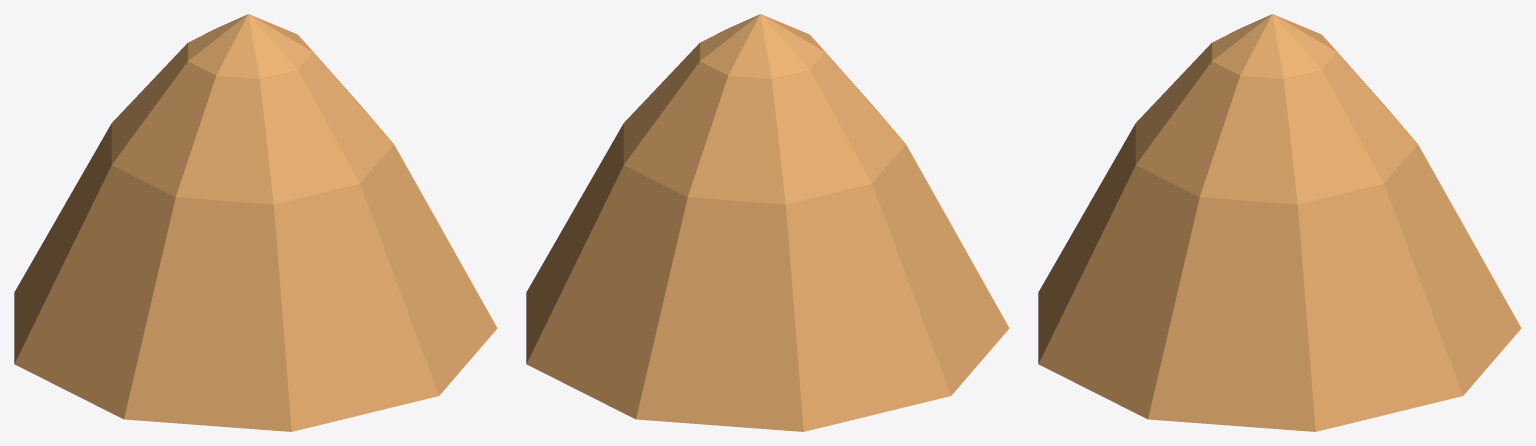
The model's file is PileOfAcorns.fbx.
The picture shows the model from 3 angles, left to right: view 1: azimuth 30°, elevation 25°; view 2: azimuth 150°, elevation 25°; view 3: azimuth 270°, elevation 25°; orthographic projection.
Visible parts, largest first — view 1: PileOfAcorns; view 2: PileOfAcorns; view 3: PileOfAcorns.
Boxes of the visible parts, box(x1,y1,x2,y2) form: PileOfAcorns: box(14, 14, 497, 431); PileOfAcorns: box(526, 14, 1009, 431); PileOfAcorns: box(1038, 14, 1521, 431).
Bounding box in the file's own units: 760 × 537 × 749.
